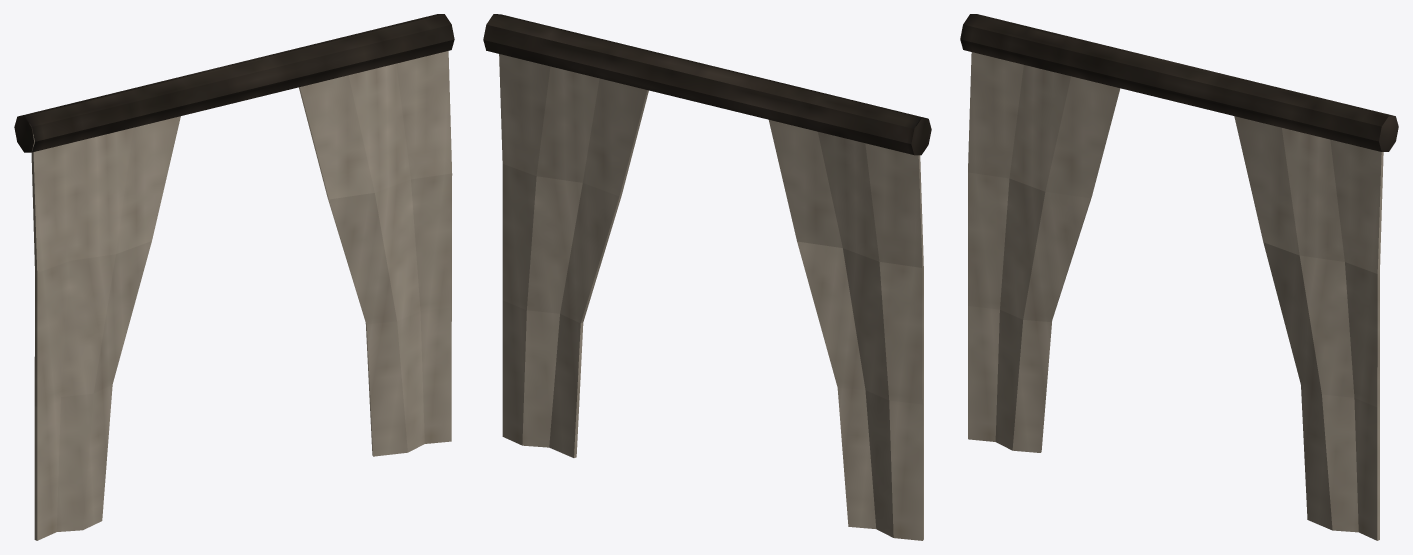
The model's file is SM_EC_House_Curtain_08.fbx.
3 views of the same model, side by side, from view 1: azimuth 30°, elevation 25°; view 2: azimuth 150°, elevation 25°; view 3: azimuth 330°, elevation 25° (orthographic). The views are drawn at different scales.
Visible parts, largest first — view 1: SM_EC_House_Curtain_08; view 2: SM_EC_House_Curtain_08; view 3: SM_EC_House_Curtain_08.
Boxes of the visible parts, bbox=[...] form: SM_EC_House_Curtain_08: bbox=[14, 14, 454, 540]; SM_EC_House_Curtain_08: bbox=[483, 14, 931, 540]; SM_EC_House_Curtain_08: bbox=[960, 14, 1398, 540].
Bounding box in the file's own units: 1.35 × 0.1112 × 1.29.
